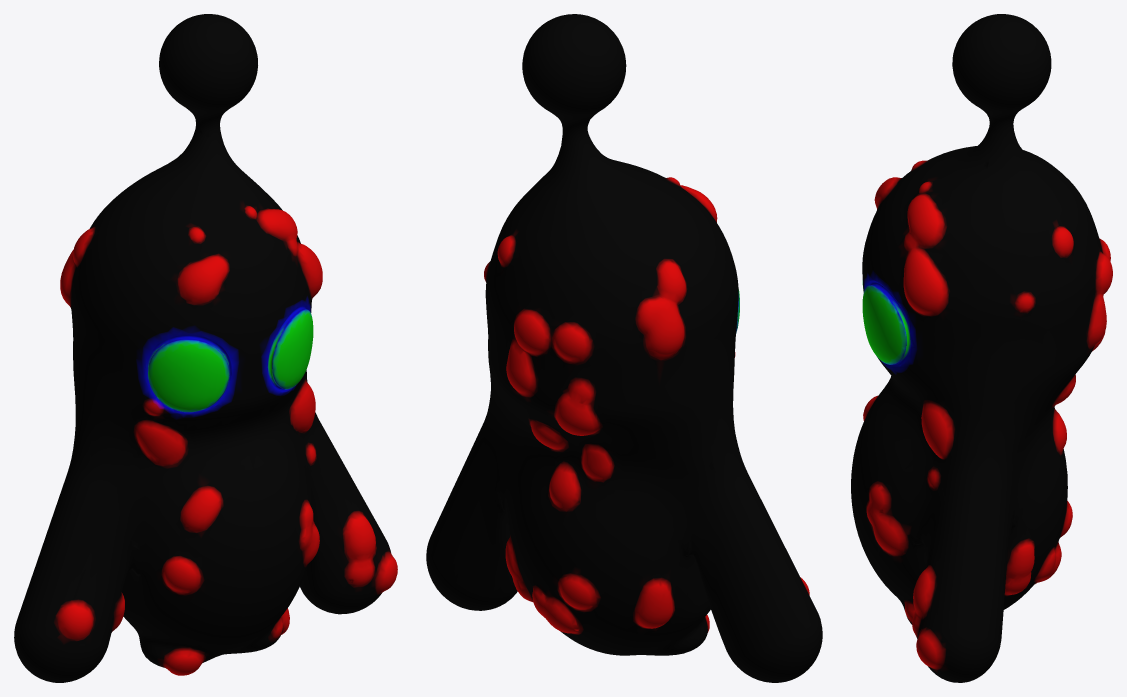
Rendered from soul-baseline-hero.glb.
The picture shows the model from 3 angles, left to right: view 1: azimuth 30°, elevation 25°; view 2: azimuth 150°, elevation 25°; view 3: azimuth 270°, elevation 25°; orthographic projection. The views are drawn at different scales.
Parts seen in each view (by area): view 1: ariseSoulBaseline; view 2: ariseSoulBaseline; view 3: ariseSoulBaseline.
Boxes of the visible parts, x1=… form: ariseSoulBaseline: x1=14, y1=14, x2=397, y2=682; ariseSoulBaseline: x1=426, y1=14, x2=822, y2=682; ariseSoulBaseline: x1=851, y1=14, x2=1112, y2=682.
Size of the model in its own units: 1.45 by 2.29 by 0.8937.
